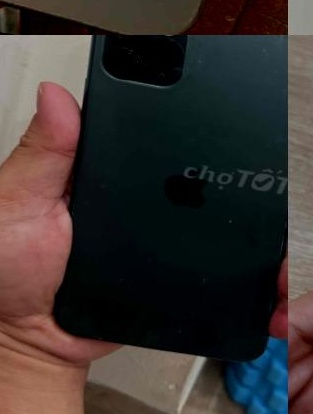scratch: (239, 35, 288, 79), (166, 321, 203, 347), (218, 211, 241, 236), (192, 58, 209, 77)
